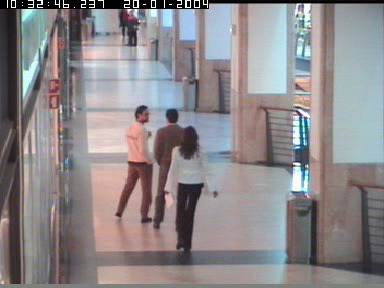person: (163, 124, 218, 254), (152, 108, 195, 232), (114, 104, 153, 224), (125, 9, 139, 46)
